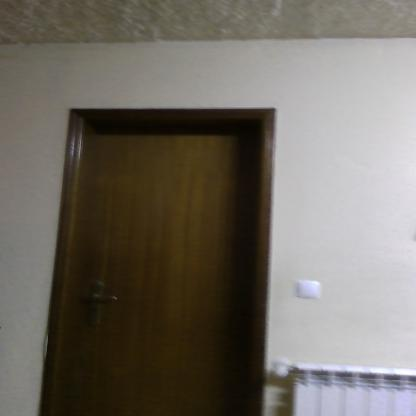door: (68, 122, 257, 416)
lever: (84, 292, 126, 305)
